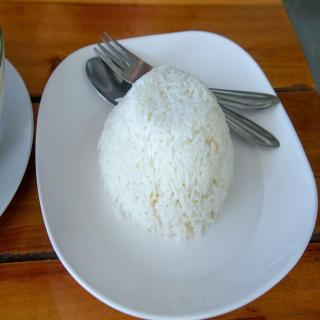Nasi: (97, 64, 236, 245)
